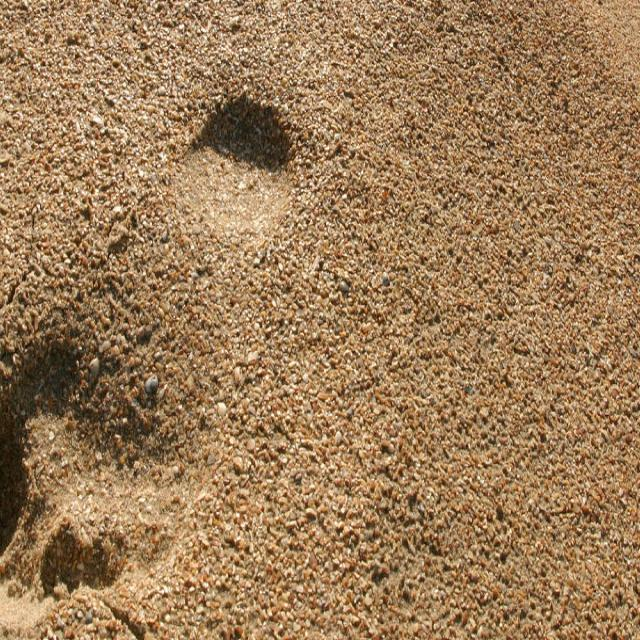human_foot_print: (10, 39, 406, 621)
